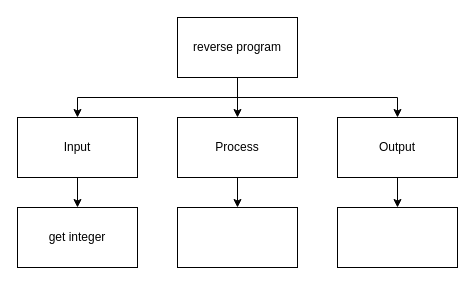
Image size: 475x285. Some labels were removed from this diagram. Each missing label, with the centre of its shape:
"reverse integer" goes at point (237, 237).
"show integer" goes at point (397, 237).
